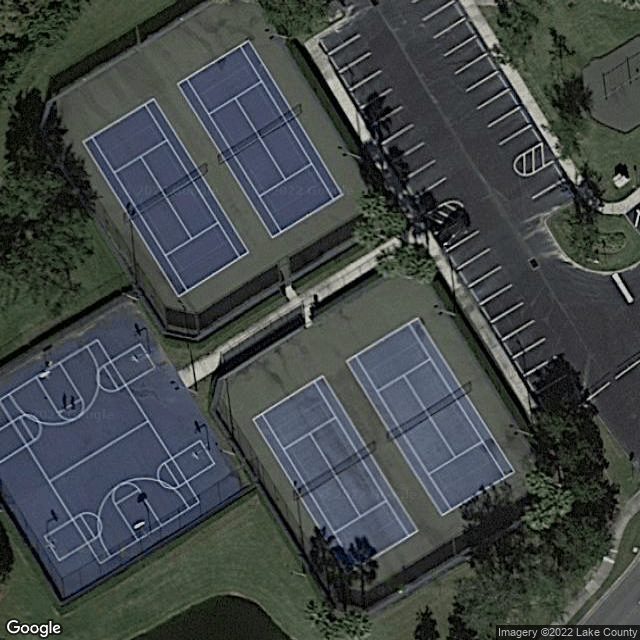Court: (81, 97, 251, 299), (175, 38, 345, 239), (346, 317, 516, 516), (250, 375, 419, 575)
